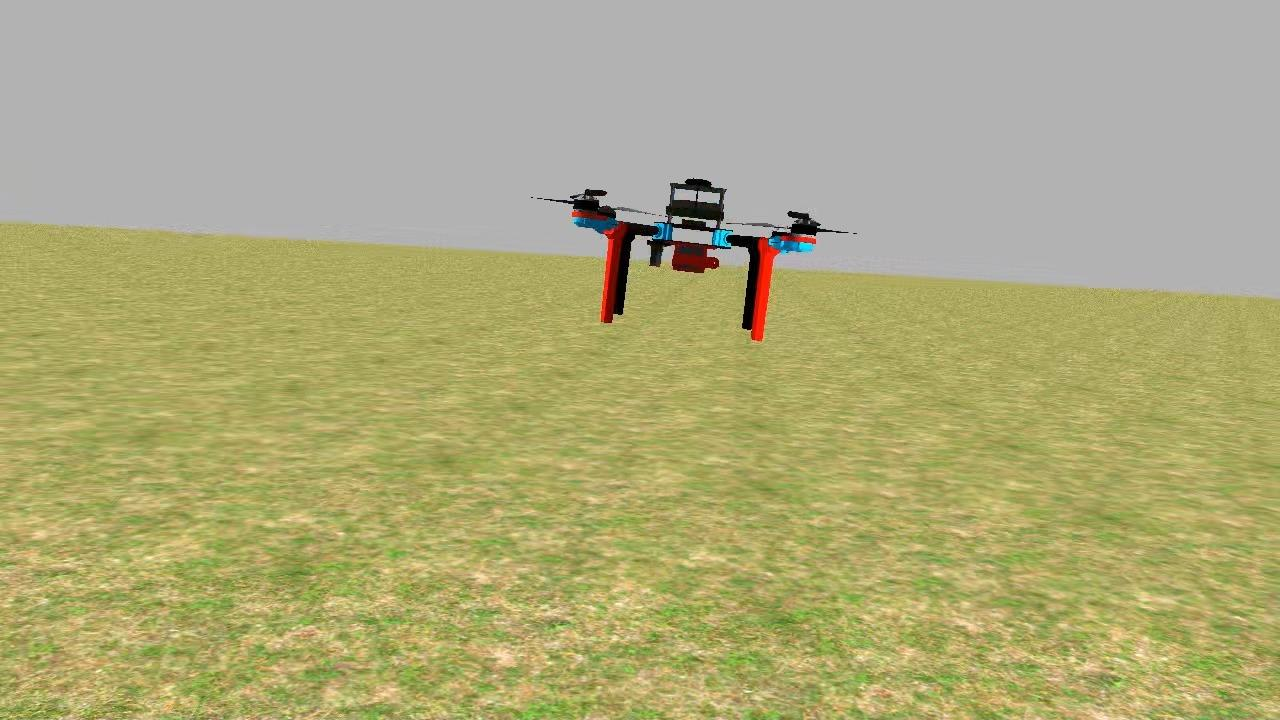UAV: (524, 153, 860, 353)
